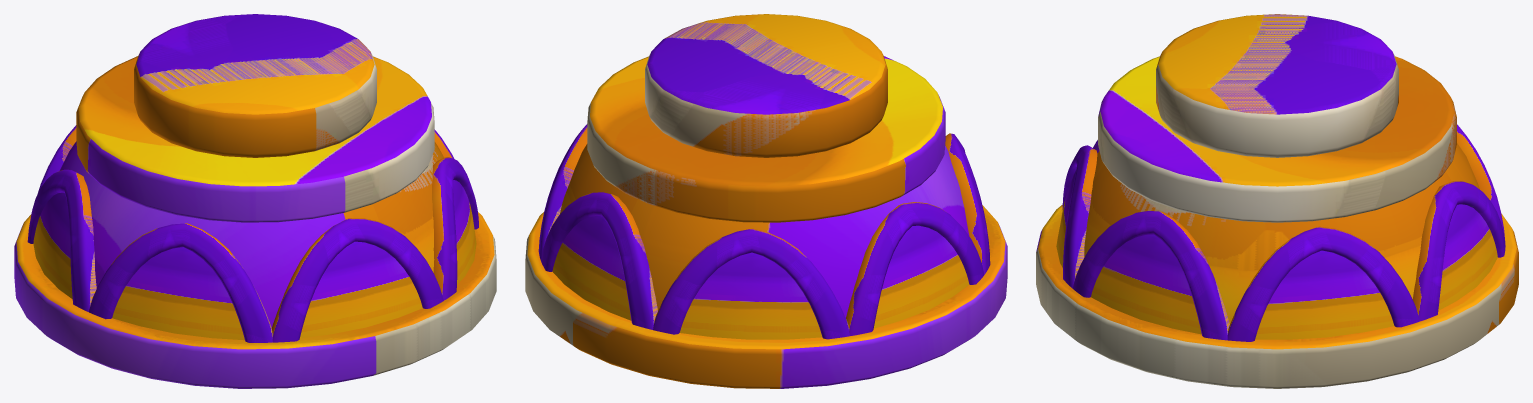
File: platform-pole-base.glb
3 renders of one model, left to right at view 1: azimuth 30°, elevation 25°; view 2: azimuth 150°, elevation 25°; view 3: azimuth 270°, elevation 25°, orthographic.
Visible parts, largest first — view 1: platform-pole-base; view 2: platform-pole-base; view 3: platform-pole-base.
Boxes of the visible parts, <box> form: platform-pole-base: <box>14,14,496,388</box>; platform-pole-base: <box>525,14,1007,388</box>; platform-pole-base: <box>1036,14,1518,388</box>.
Bounding box in the file's own units: 1.94 × 1.01 × 1.94.
Materials: 1 (1 with a texture image).
